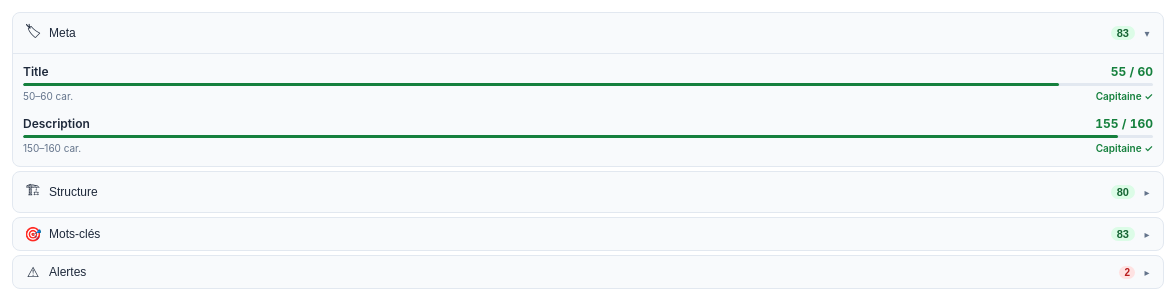
IndicatorsTab › shows image alert when images lack alt
The width and height of the screenshot is (1176, 306).
What coordinates should you click on to do the following:
click the button with class "card-header" showing "⚠ Alertes 2 ▸"
I would click on:
 (68, 272)
Its box is [13, 256, 1163, 288].
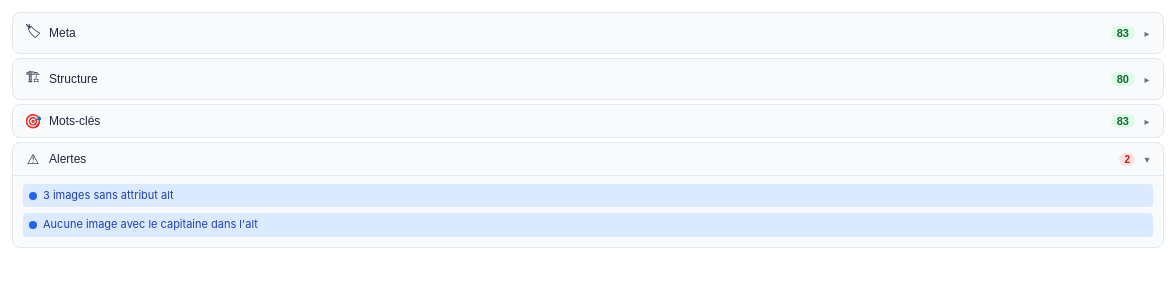
Check: the text "3 images sans attribut alt" is shown, box [43, 188, 174, 202]
